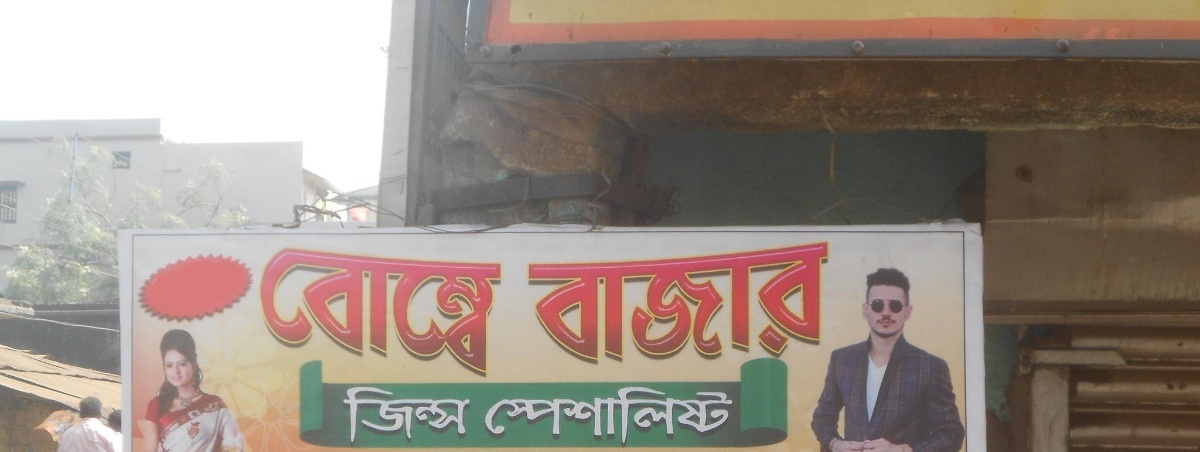text: (273, 245, 288, 379), (289, 245, 304, 379), (305, 245, 320, 379), (321, 245, 336, 379), (337, 245, 352, 379), (353, 245, 368, 379), (369, 245, 384, 379), (385, 245, 400, 379), (401, 245, 416, 379), (417, 245, 432, 379), (433, 245, 448, 379), (449, 245, 464, 379), (465, 245, 480, 379), (481, 245, 496, 379), (529, 242, 544, 365), (545, 242, 560, 365), (561, 242, 576, 365), (577, 242, 592, 365), (593, 242, 608, 365), (609, 242, 624, 365), (625, 242, 640, 365), (641, 242, 656, 365), (657, 242, 672, 365), (673, 242, 688, 365), (689, 242, 704, 365), (705, 242, 720, 365), (721, 242, 736, 365), (737, 242, 752, 365), (753, 242, 768, 365), (769, 242, 784, 365), (785, 242, 800, 365), (801, 242, 816, 365), (260, 245, 272, 379), (817, 242, 830, 365), (497, 385, 512, 449), (513, 385, 528, 449), (529, 385, 544, 449), (545, 385, 560, 449), (561, 385, 576, 449), (577, 385, 592, 449), (593, 385, 608, 449), (609, 385, 624, 449), (625, 385, 640, 449), (641, 385, 656, 449), (657, 385, 672, 449), (673, 385, 688, 449), (689, 385, 704, 449), (705, 385, 720, 449), (721, 385, 736, 449), (353, 384, 368, 447), (369, 384, 384, 447), (385, 384, 400, 447), (401, 384, 416, 447), (417, 384, 432, 447), (433, 384, 448, 447), (449, 384, 464, 447), (497, 245, 503, 379), (484, 385, 496, 449), (342, 384, 352, 447), (465, 384, 472, 447)
